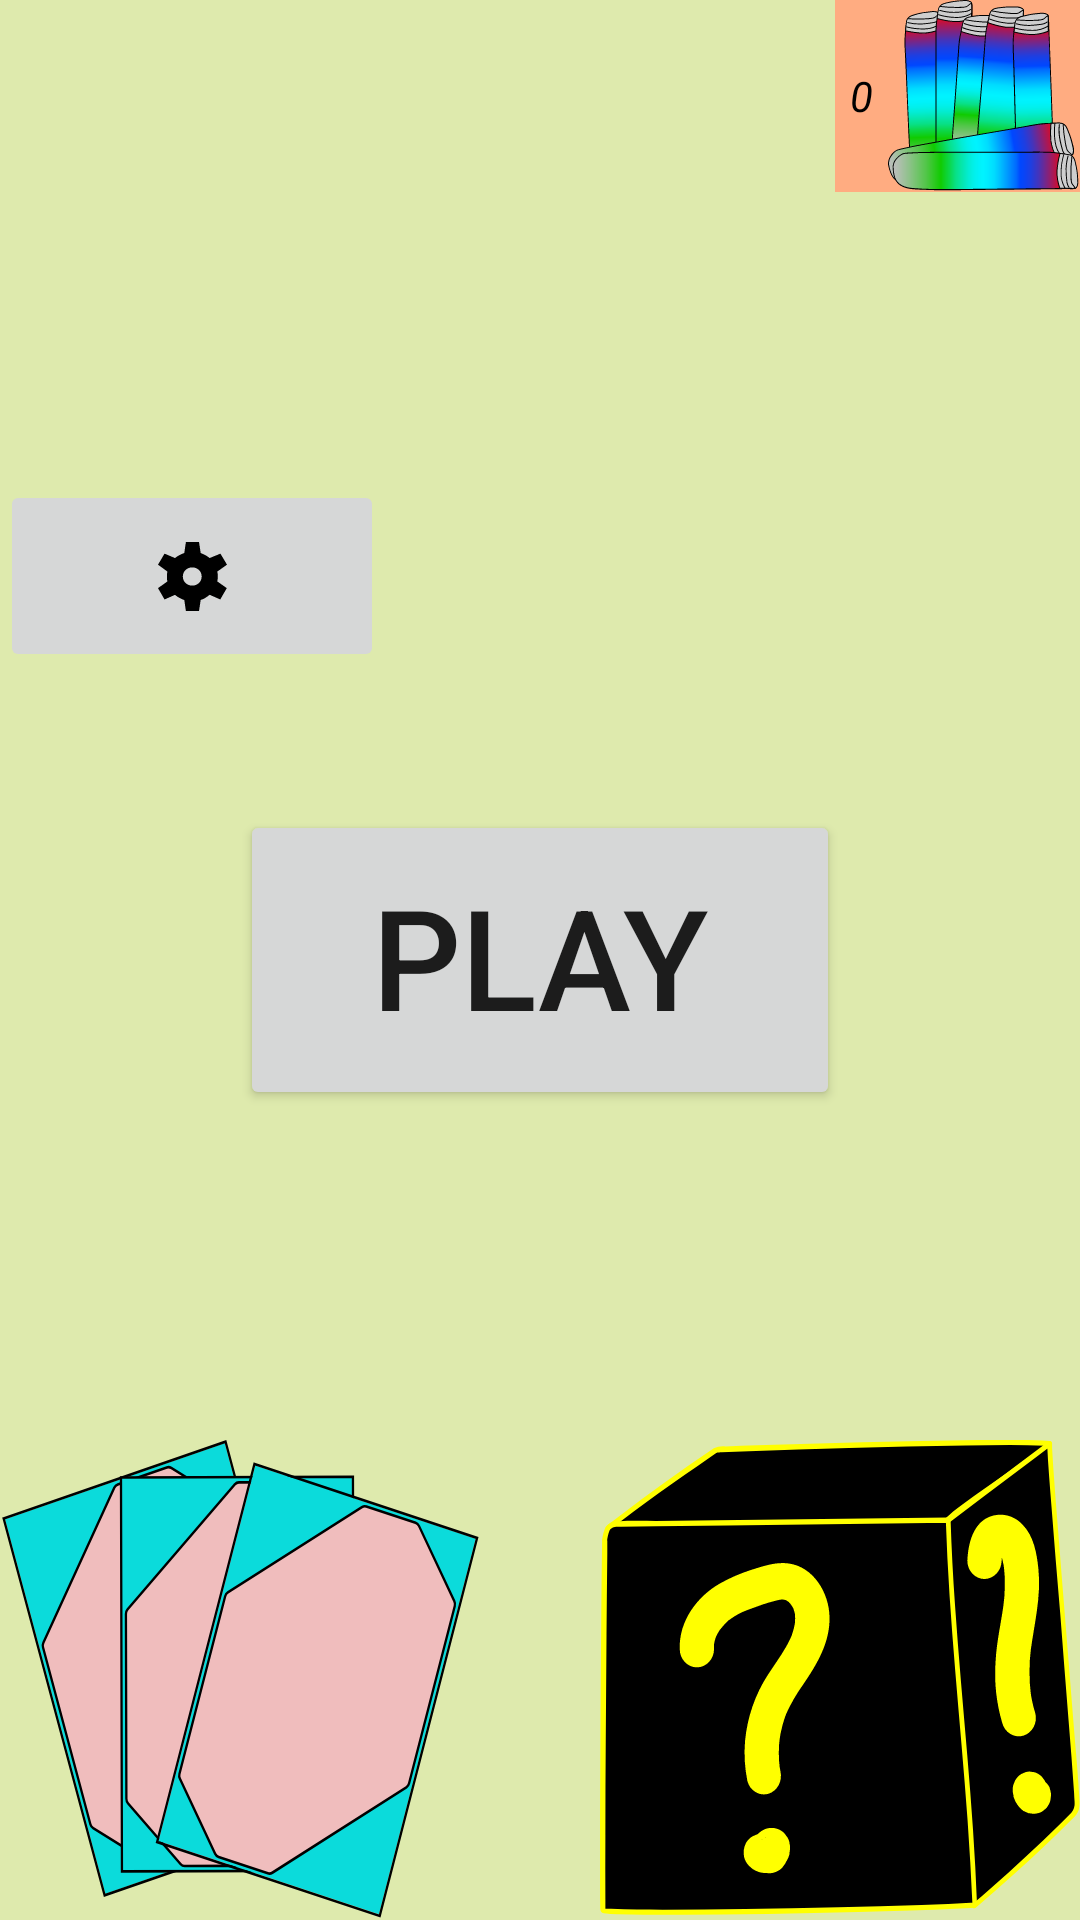

Named icons in this screenshot (1080px x 1920px) and their bounding boxes, (x1, y1, x2, y2):
money: (888, 0, 1079, 191)
